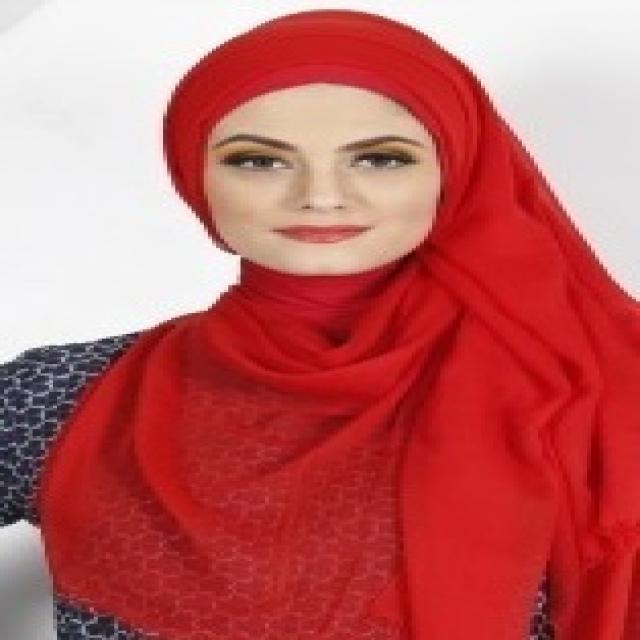head: (167, 11, 496, 290)
